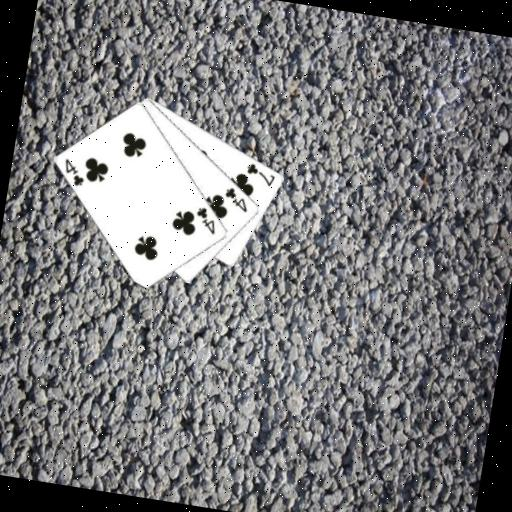4C: (58, 155, 89, 189), (219, 183, 252, 214), (190, 202, 220, 236)
7C: (242, 159, 279, 189)
